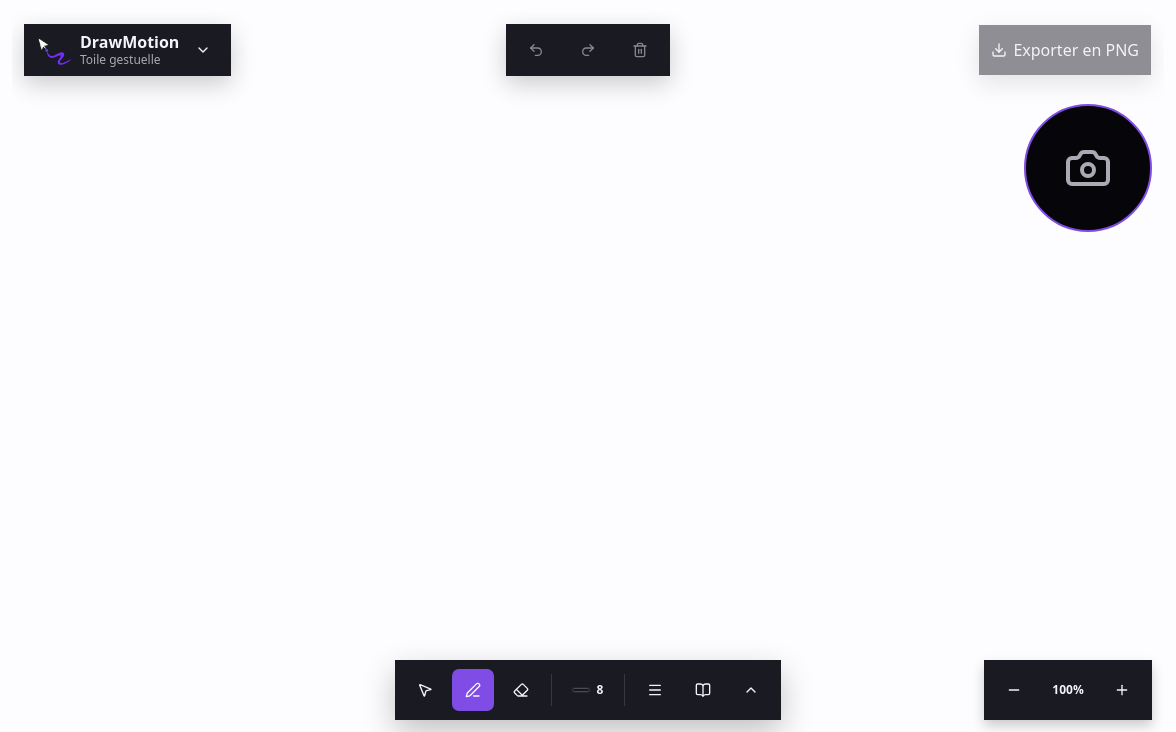
Test case: WorkspaceShell › supports zooming and resetting the canvas
Check: the button named "Réinitialiser la vue" reads "100%", box 1040,670 -> 1096,710
Click the button named "Zoomer" at point(1122, 690), box 1100,668 -> 1144,712
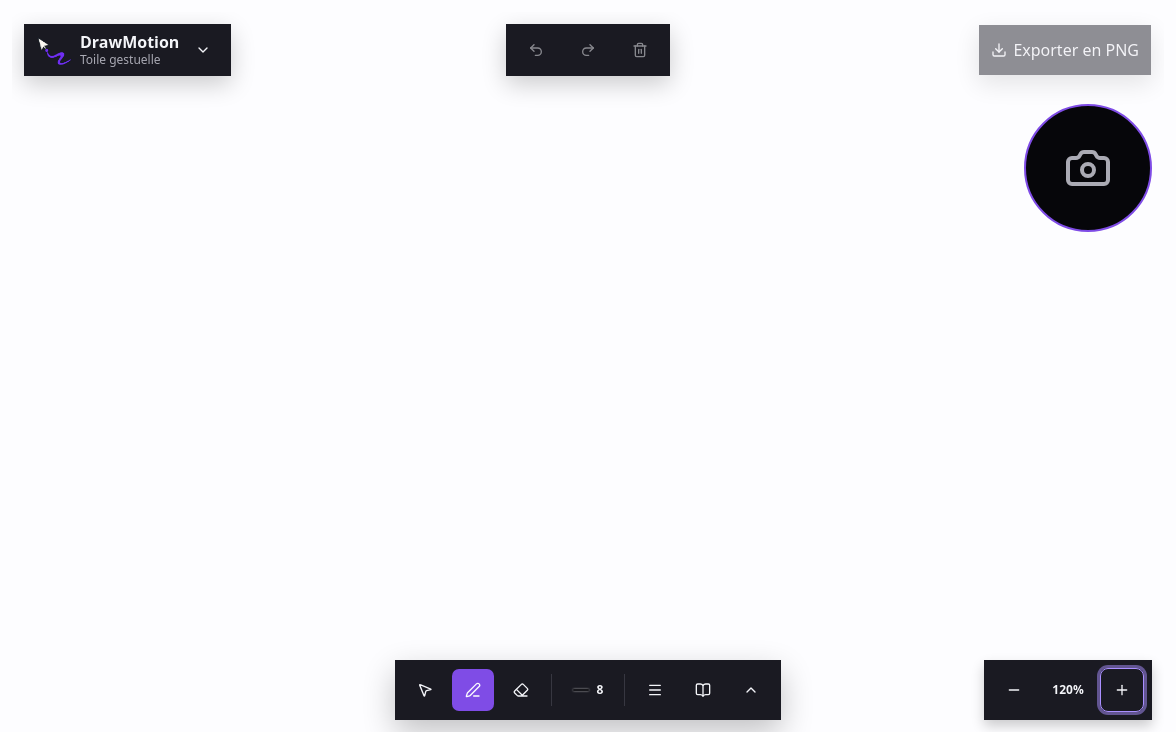
Check: the button named "Réinitialiser la vue" reads "120%"
Click the button named "Réinitialiser la vue" at point(1068, 690), box 1040,670 -> 1096,710
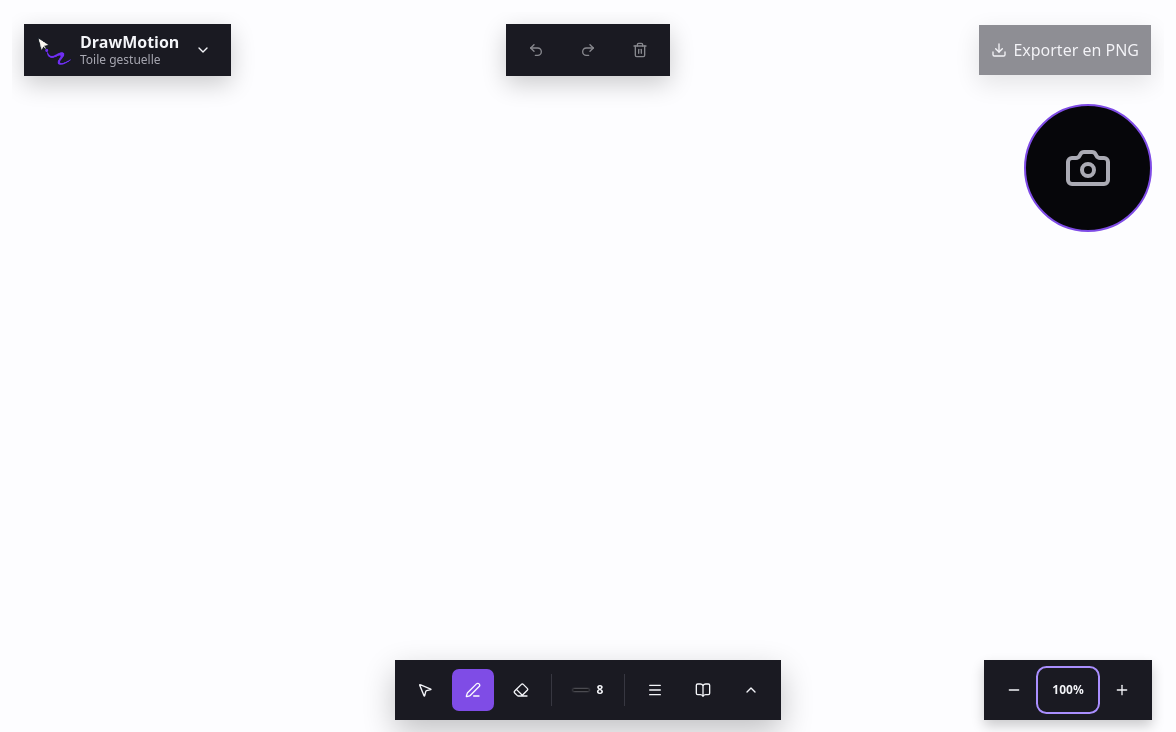
Check: the button named "Réinitialiser la vue" reads "100%", box 1040,670 -> 1096,710
